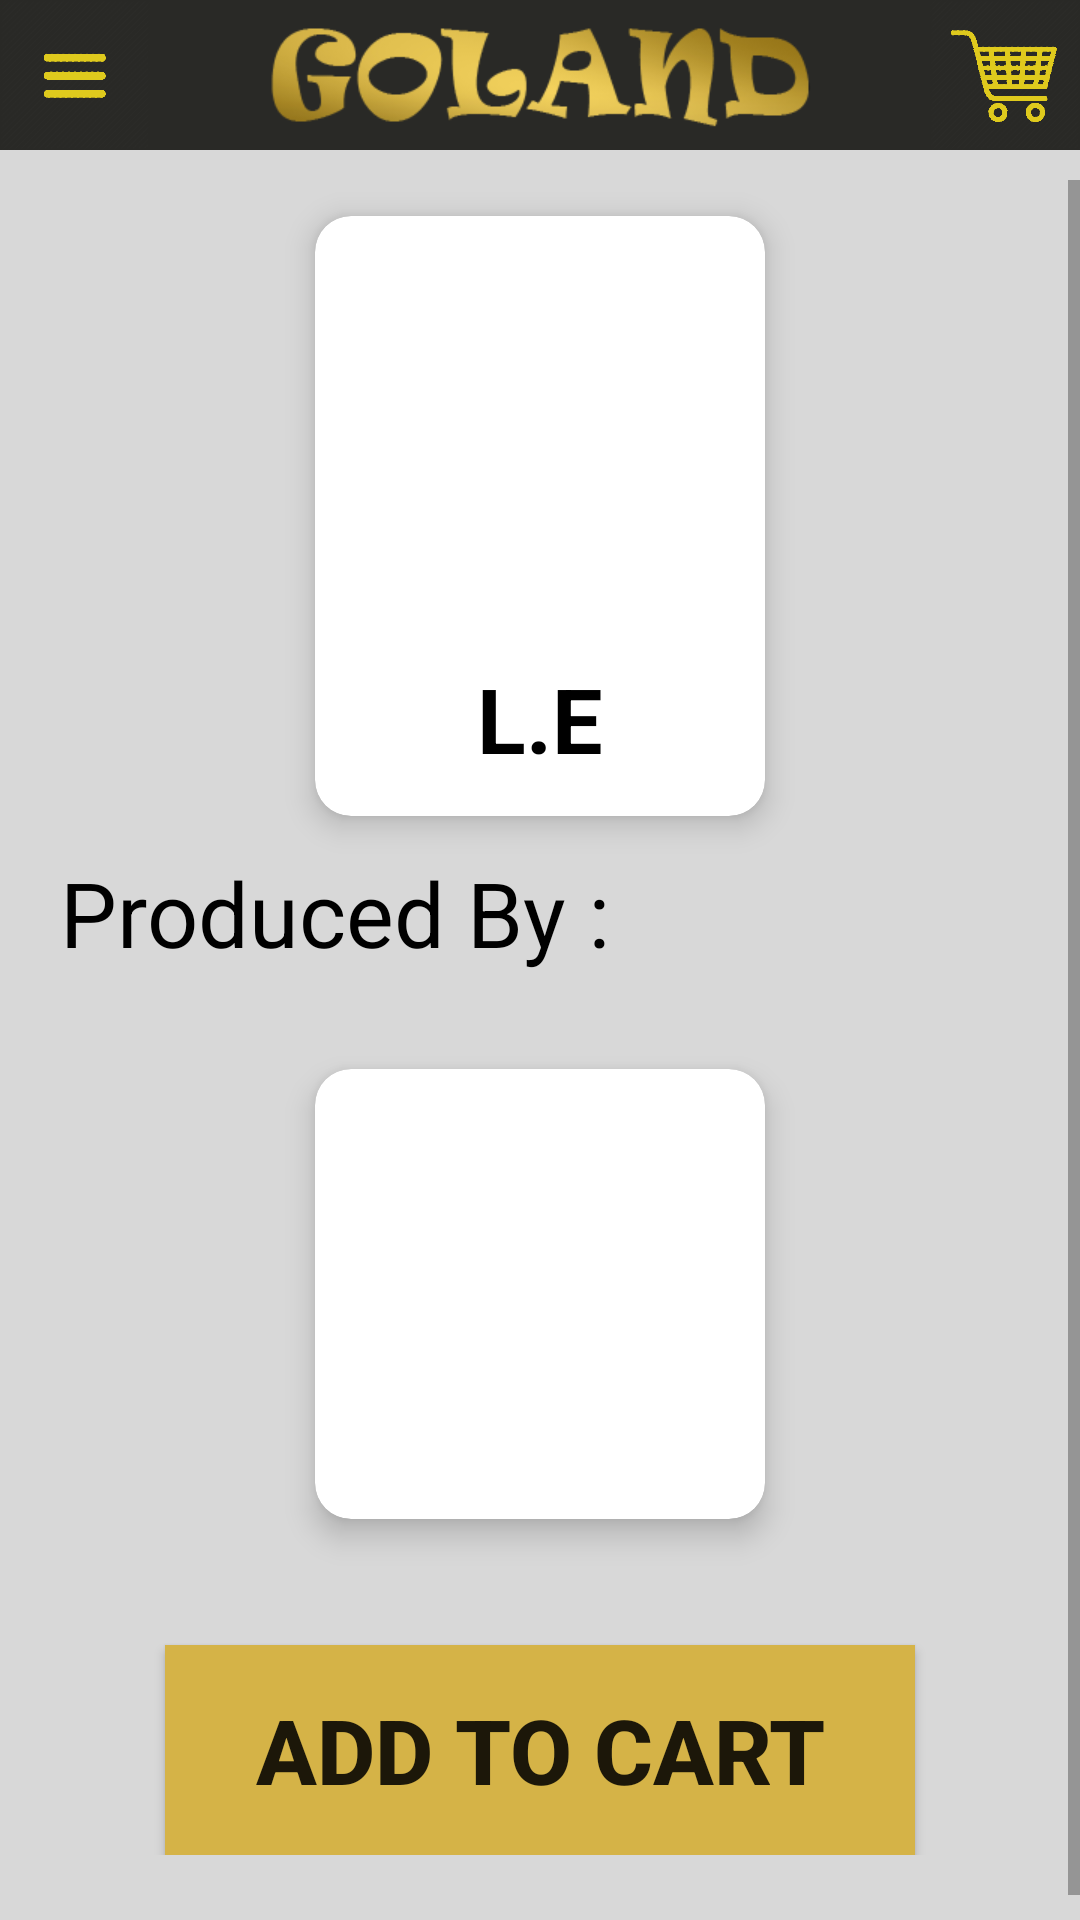

Where icons sit on this 1080×1920 app screen, as box(x1, y1, x2, y2):
cart: box(951, 30, 1057, 122)
menu: box(44, 54, 106, 98)
